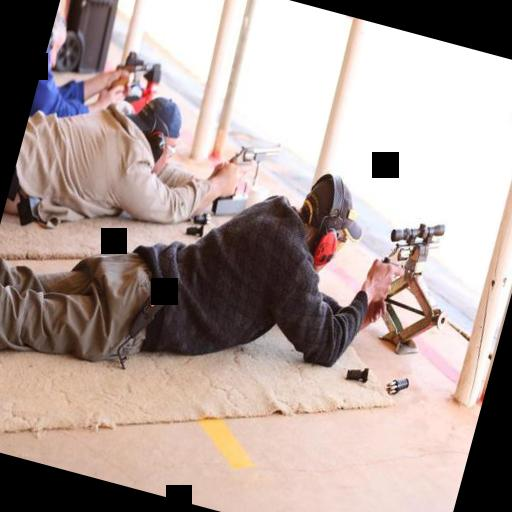Handgun: (367, 205, 450, 302), (220, 127, 284, 183), (106, 51, 153, 99)
